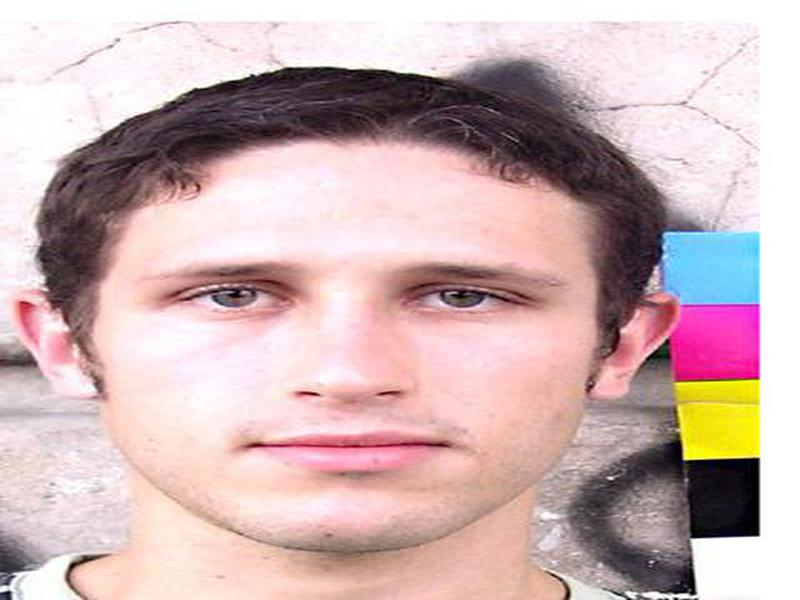without_mask: (127, 159, 565, 546)
